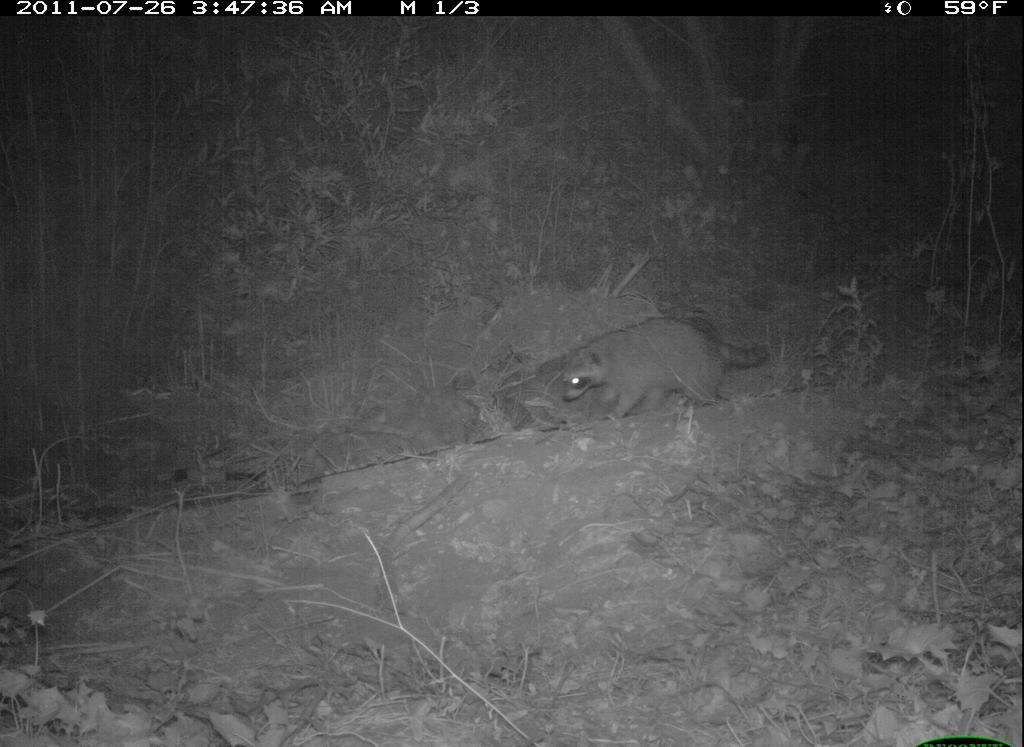raccoon: (547, 312, 780, 436)
